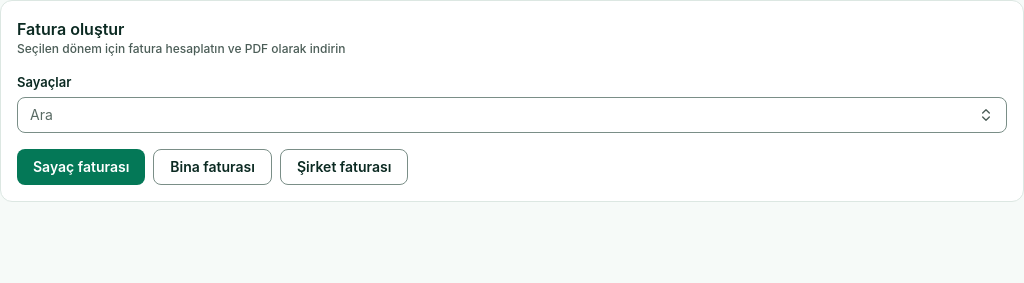
Scenario: GenerateCardView › refuses an analyzer invoice with nothing selected and says so
Click the button "Sayaç faturası".
click(81, 167)  # box [17,149,145,185]
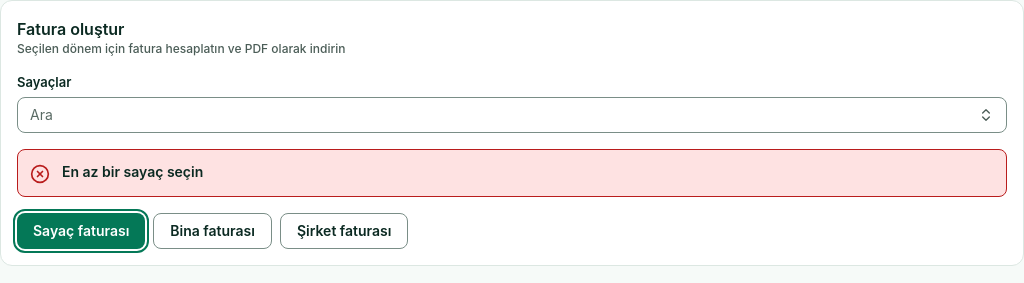
Expected: the message reads "En az bir sayaç seçin", [62,163,203,180]
